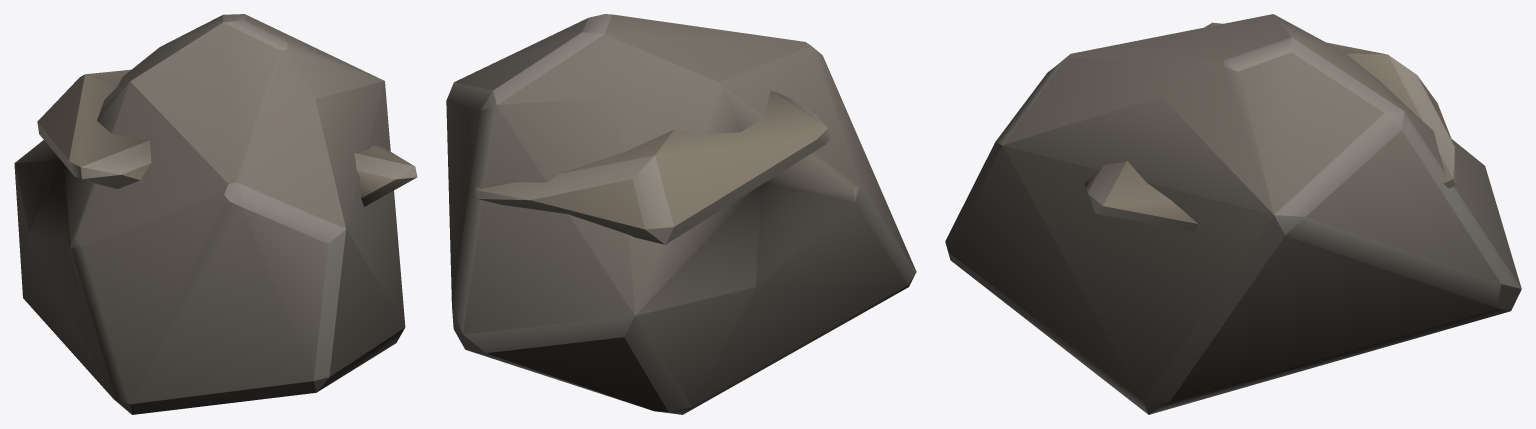
Rendered from PB_Boulder_B.glb.
3 renders of one model, left to right at view 1: azimuth 30°, elevation 25°; view 2: azimuth 150°, elevation 25°; view 3: azimuth 270°, elevation 25°, orthographic. The views are drawn at different scales.
Parts seen in each view (by area): view 1: PB_Boulder_B_1_Slate; view 2: PB_Boulder_B_1_Slate; view 3: PB_Boulder_B_1_Slate.
Boxes of the visible parts, left/top/right/bottom form: PB_Boulder_B_1_Slate: left=14, top=14, right=417, bottom=414; PB_Boulder_B_1_Slate: left=446, top=14, right=916, bottom=414; PB_Boulder_B_1_Slate: left=945, top=14, right=1521, bottom=414.
Size of the model in its own units: 3.03 by 2.42 by 3.94.
